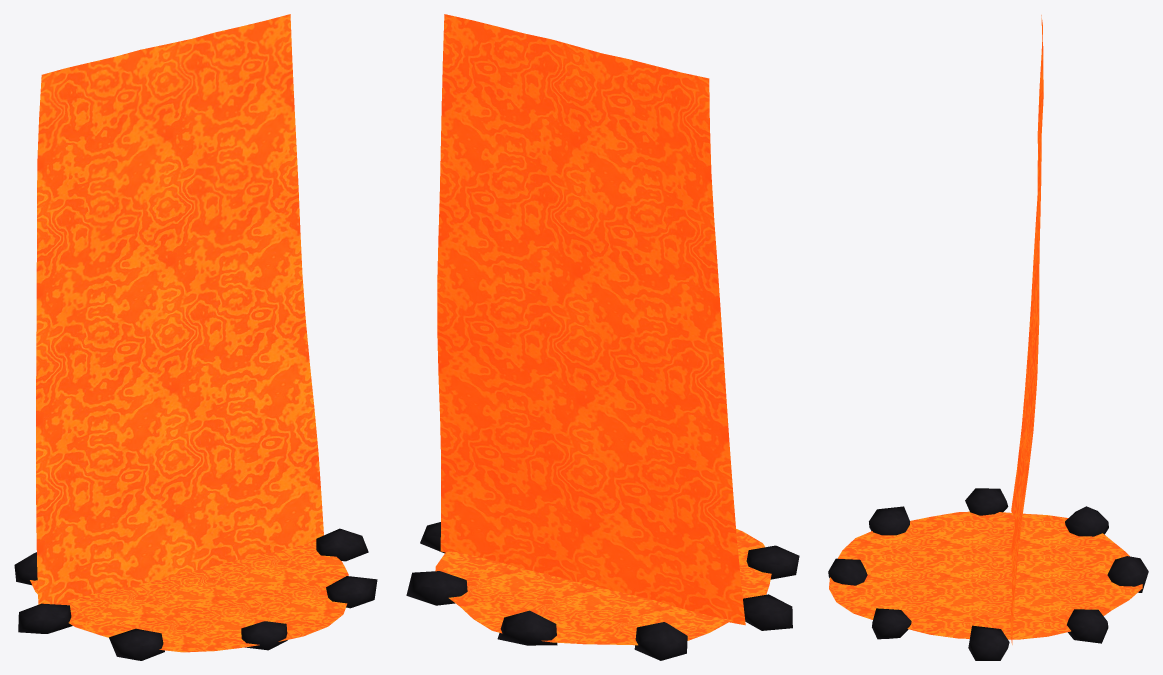
Rendered from lava_fall.glb.
3 views of the same model, side by side, from view 1: azimuth 30°, elevation 25°; view 2: azimuth 150°, elevation 25°; view 3: azimuth 270°, elevation 25° (orthographic). The views are drawn at different scales.
Parts seen in each view (by area): view 1: LavaCurtain, LavaPool, Rim; view 2: LavaCurtain, LavaPool, Rim; view 3: LavaPool, Rim, LavaCurtain.
Boxes of the visible parts, x1,y1,x2,y2 form: LavaCurtain: (36,14,323,604); LavaPool: (30,541,348,652); Rim: (14,528,377,660); LavaCurtain: (437,14,745,625); LavaPool: (435,529,771,645); Rim: (406,522,799,660); LavaPool: (829,511,1142,639); Rim: (828,488,1148,660); LavaCurtain: (1010,15,1043,644).
Size of what is drawn, in the model's own units: 19.36 by 28.7 by 16.1.
2 materials, 2 textured.
